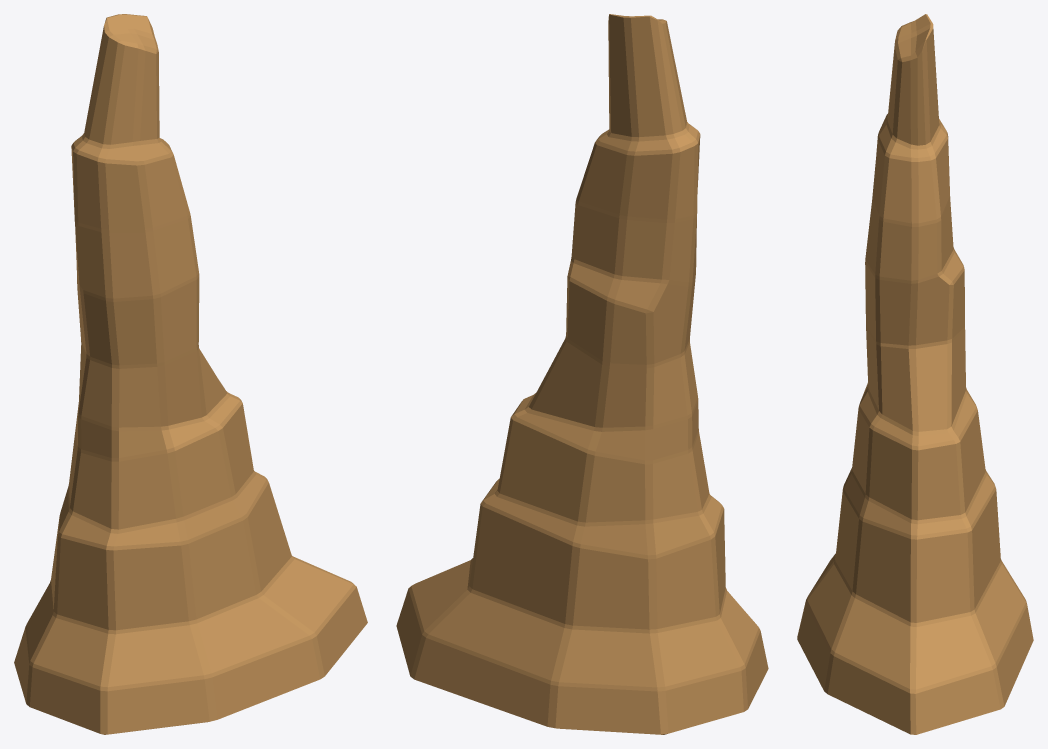
Rendered from Desert_Spire.fbx.
The picture shows the model from 3 angles, left to right: view 1: azimuth 30°, elevation 25°; view 2: azimuth 150°, elevation 25°; view 3: azimuth 270°, elevation 25°; orthographic projection. The views are drawn at different scales.
Visible parts, largest first — view 1: Desert Spire; view 2: Desert Spire; view 3: Desert Spire.
Part boxes in pixels (x1,y1,x2,y2): Desert Spire: (14, 14, 367, 734); Desert Spire: (396, 14, 768, 734); Desert Spire: (797, 14, 1033, 734).
Size of the model in its own units: 9374 by 17519 by 6153.
